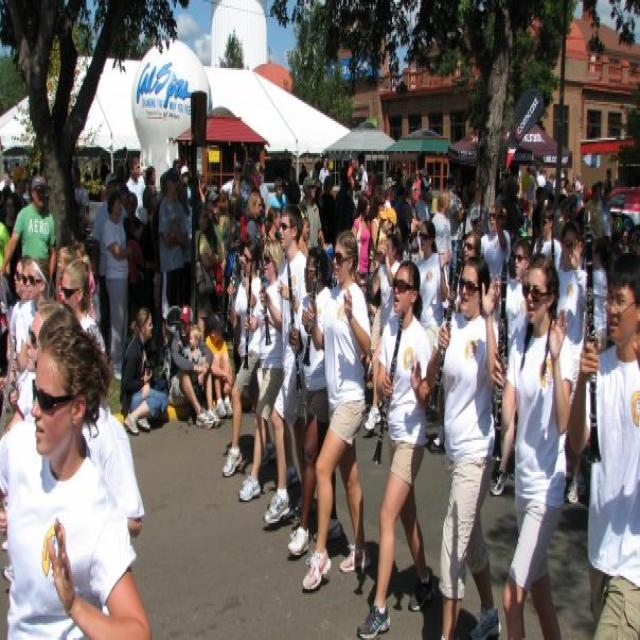clarinet: (427, 252, 463, 416), (371, 304, 406, 468), (486, 252, 511, 460), (584, 221, 604, 468), (302, 233, 325, 374), (285, 255, 305, 398), (220, 219, 244, 334), (254, 216, 274, 350), (242, 256, 255, 374)
